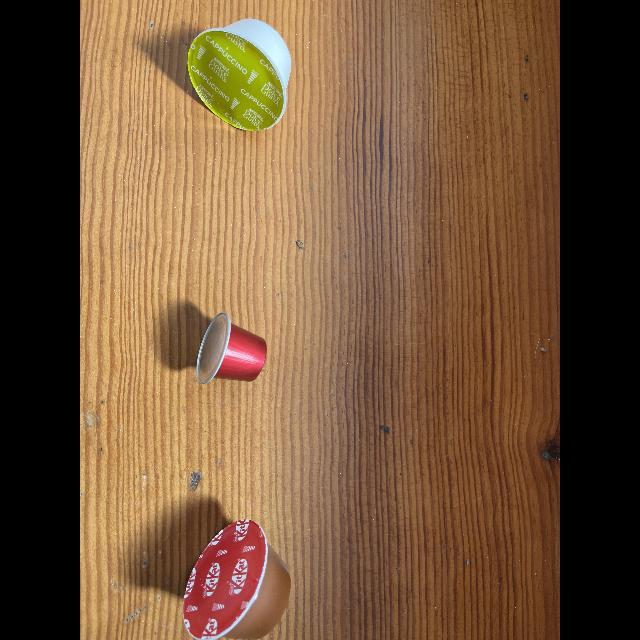intact_capsule: (174, 508, 300, 640), (182, 10, 296, 136), (186, 302, 274, 400)
